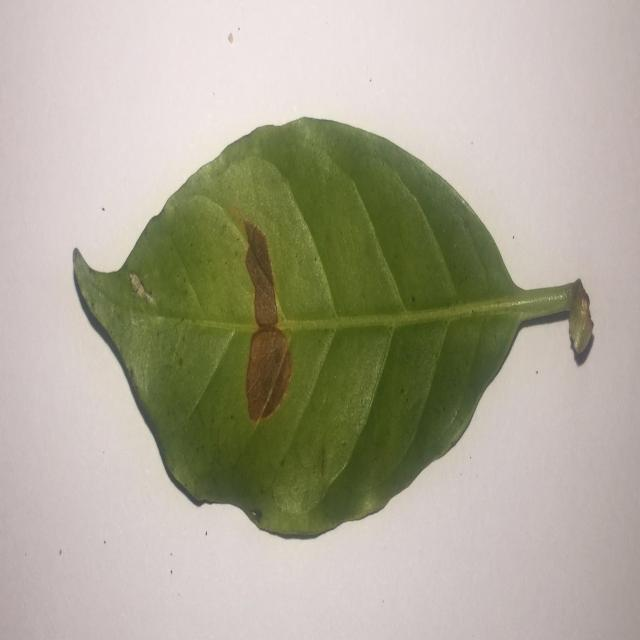Plaga-Minador: (71, 118, 597, 542)
